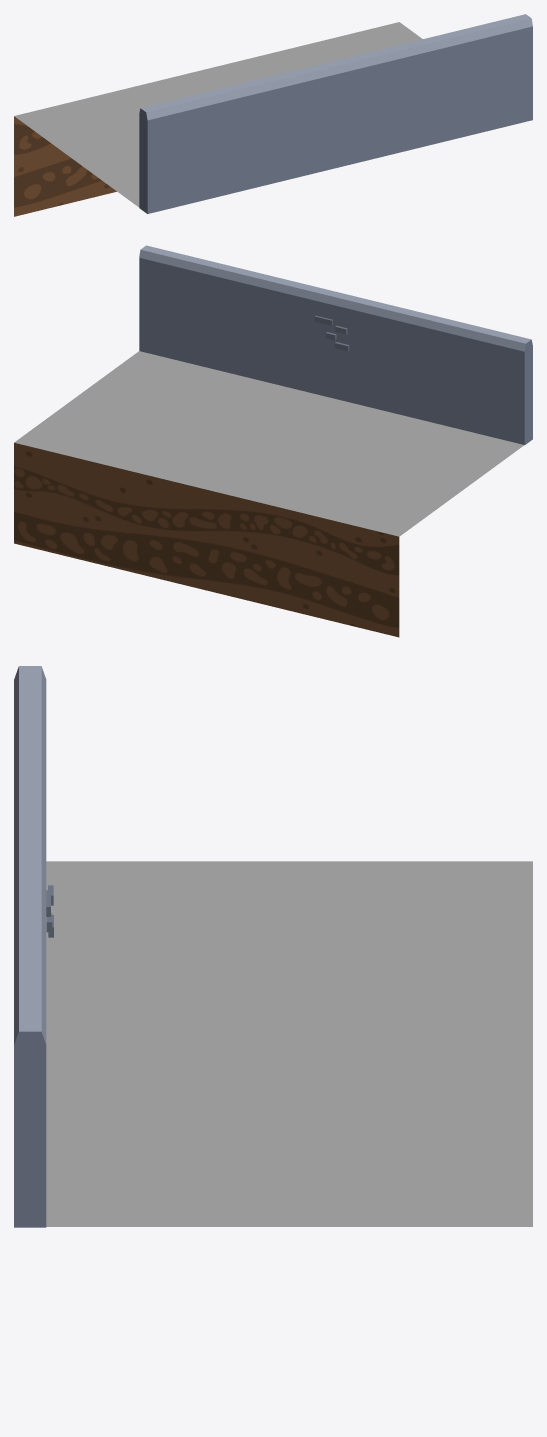
The picture shows the model from 3 angles, top to bottom: view 1: azimuth 30°, elevation 25°; view 2: azimuth 150°, elevation 25°; view 3: azimuth 270°, elevation 25°; orthographic projection. The views are drawn at different scales.
Visible parts, largest first — view 1: Wall, Floor; view 2: Floor, Wall; view 3: Floor, Wall.
Boxes of the visible parts, x1,y1,x2,y2 form: Wall: (139,14,532,213); Floor: (14,22,422,216); Floor: (14,351,524,637); Wall: (139,245,532,444); Floor: (46,861,532,1226); Wall: (14,666,46,1227).
Bounding box in the file's own units: 100 × 49.9 × 60.
